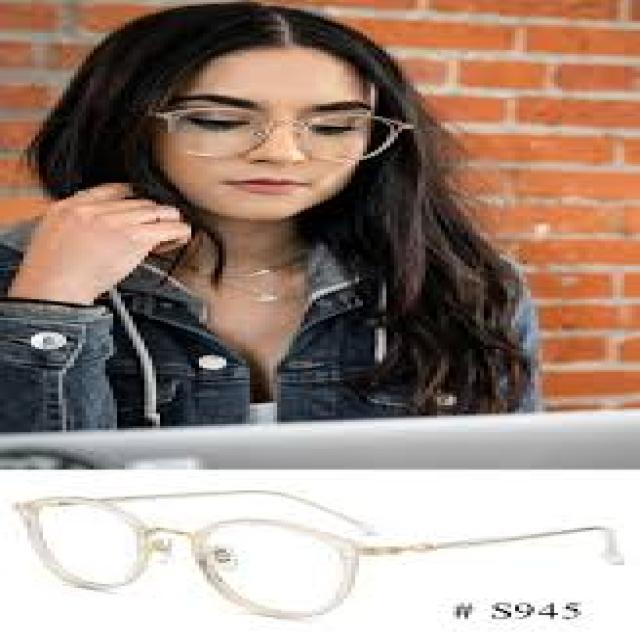specticles: (126, 90, 424, 170)
